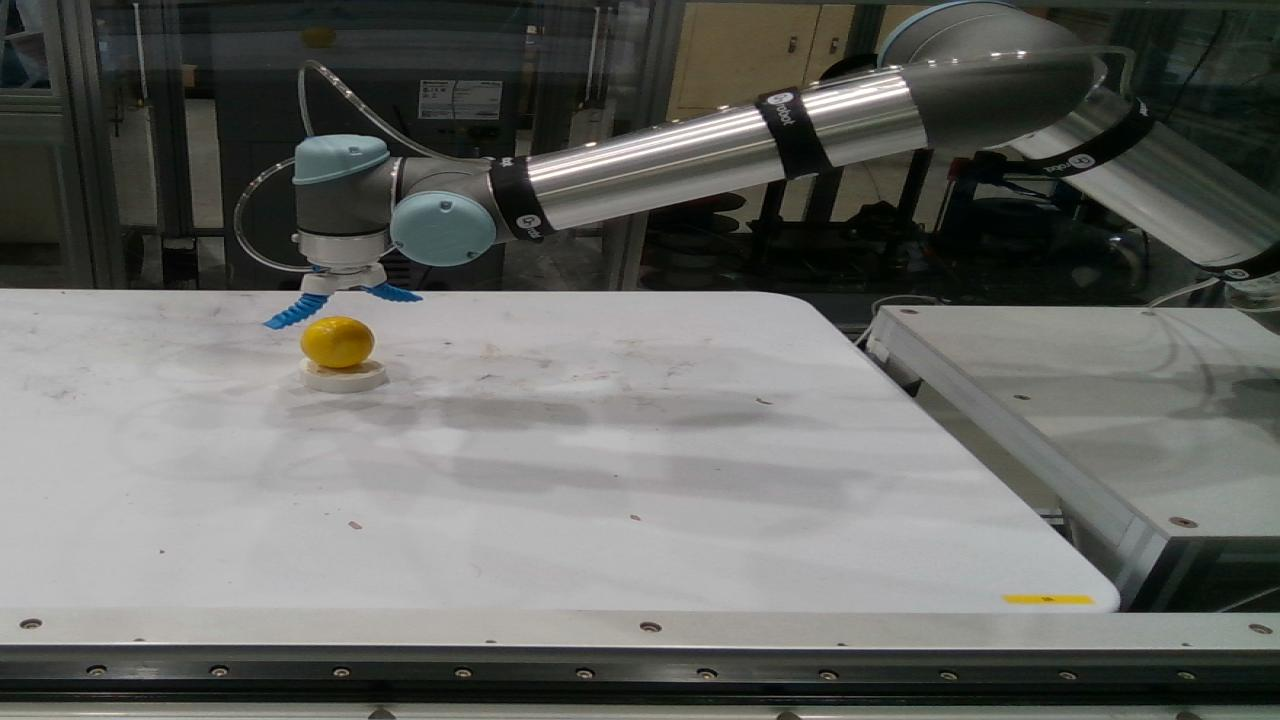UR5: (292, 0, 1279, 336)
gripper_left: (361, 281, 425, 302)
gripper_right: (263, 294, 330, 330)
target: (299, 350, 387, 393), (301, 316, 375, 367)
